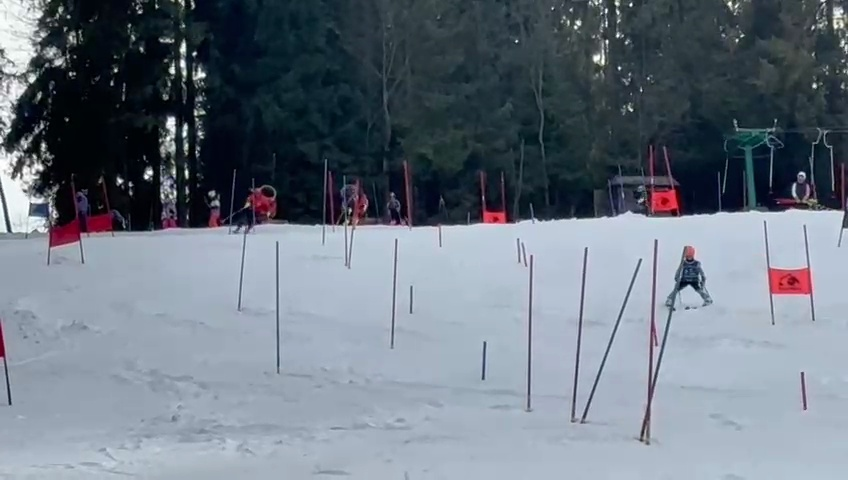gate: (581, 246, 646, 431), (640, 235, 689, 449), (569, 244, 589, 428), (639, 234, 656, 447), (522, 251, 542, 415), (758, 213, 782, 328), (271, 239, 289, 376), (799, 218, 822, 323), (344, 175, 366, 276), (660, 141, 687, 221), (41, 173, 60, 269), (0, 309, 18, 410), (386, 234, 400, 351), (70, 178, 87, 266), (833, 157, 848, 249), (236, 218, 250, 315), (640, 140, 657, 219), (399, 159, 416, 231), (99, 175, 117, 241), (317, 158, 331, 239), (225, 165, 239, 235), (246, 174, 260, 239), (477, 166, 489, 228), (498, 167, 510, 228), (407, 264, 419, 315), (798, 367, 810, 415), (479, 335, 490, 383), (407, 281, 417, 316), (434, 221, 445, 250), (513, 237, 524, 266)
